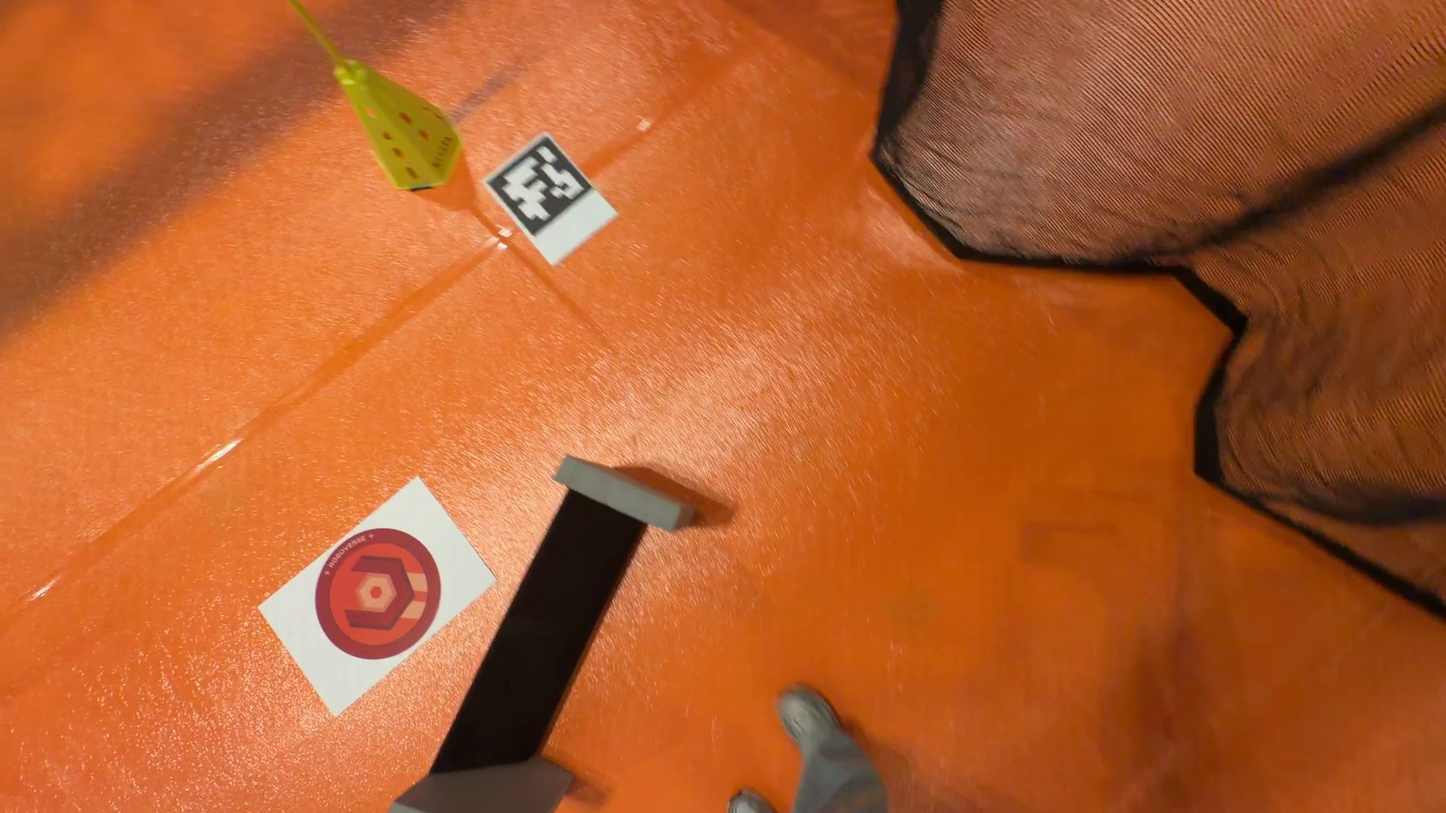landing_pad: (314, 528, 444, 662)
